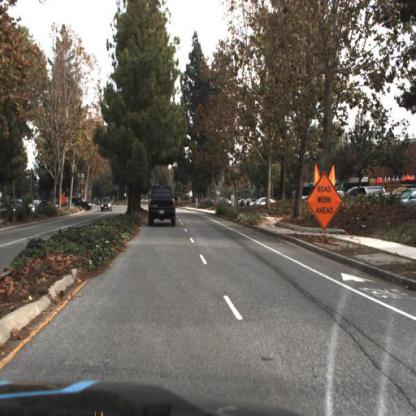car: (147, 182, 176, 228), (70, 198, 92, 209), (98, 196, 112, 212), (101, 196, 112, 212)
